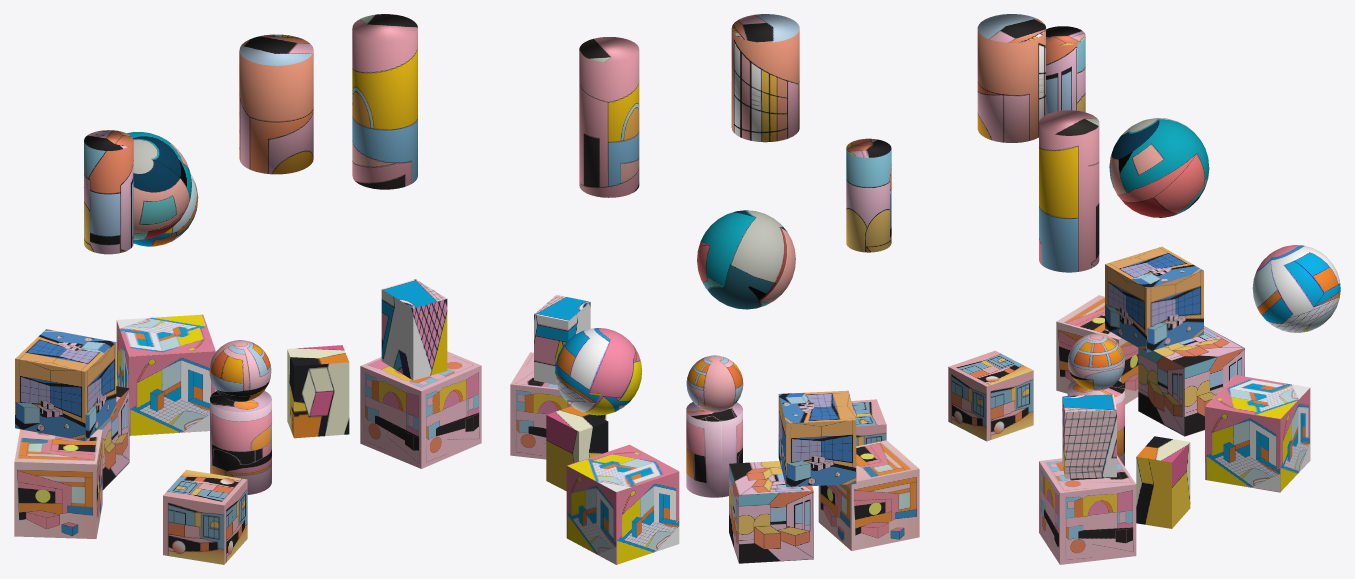
Rendered from MemphisRevisited_AR.glb.
The picture shows the model from 3 angles, left to right: view 1: azimuth 30°, elevation 25°; view 2: azimuth 150°, elevation 25°; view 3: azimuth 270°, elevation 25°; orthographic projection. The views are drawn at different scales.
Parts seen in each view (by area): view 1: Cylinder.003, Cube.003, Cube.001, Cylinder.001, Cube.007, Cube.004, Cube, Cylinder.002, Cube.002, Cube.005, Cylinder, Sphere.002 (+3 smaller); view 2: Cube.001, Cylinder.003, Cylinder.001, Cube.004, Sphere.002, Cube.006, Cube.007, Sphere.001, Cylinder.002, Cylinder, Cube.003, Cube.005 (+3 smaller); view 3: Cube.001, Cylinder.003, Cube.007, Cube.003, Cylinder.001, Sphere.002, Cube.006, Cube, Sphere.001, Cube.002, Cube.005, Cylinder.002 (+3 smaller).
Boxes of the visible parts, box(x1,y1,x2,y2) form: Cylinder.003: box(352, 14, 417, 189); Cube.003: box(360, 351, 481, 468); Cube.001: box(116, 314, 215, 435); Cylinder.001: box(239, 34, 313, 174); Cube.007: box(15, 329, 116, 441); Cube.004: box(14, 429, 102, 538); Cube: box(163, 469, 247, 564); Cylinder.002: box(84, 130, 133, 254); Cube.002: box(381, 279, 447, 380); Cube.005: box(287, 345, 349, 438); Cylinder: box(210, 391, 271, 494); Sphere.002: box(83, 132, 191, 239); Cube.001: box(566, 444, 679, 564); Cylinder.003: box(579, 37, 639, 197); Cylinder.001: box(731, 14, 799, 142); Cube.004: box(818, 440, 919, 550); Sphere.002: box(697, 210, 795, 309); Cube.006: box(729, 461, 813, 563); Cube.007: box(778, 390, 856, 486); Sphere.001: box(555, 328, 641, 415); Cylinder.002: box(846, 138, 891, 252); Cylinder: box(686, 402, 742, 497); Cube.003: box(510, 352, 606, 459); Cube.005: box(546, 406, 608, 491); Cube.001: box(1205, 375, 1310, 492); Cylinder.003: box(1039, 110, 1099, 272); Cube.007: box(1105, 246, 1203, 352); Cube.003: box(1039, 455, 1136, 564); Cylinder.001: box(977, 14, 1045, 142); Sphere.002: box(1109, 118, 1209, 217); Cube.006: box(1138, 326, 1244, 436); Cube: box(948, 350, 1033, 441); Sphere.001: box(1252, 245, 1340, 332); Cube.002: box(1062, 394, 1116, 478); Cube.005: box(1136, 436, 1190, 528); Cylinder.002: box(1046, 26, 1085, 114).
Bounding box in the file's own units: 13.87 × 13.92 × 11.44.
Materials: 15 (15 with a texture image).
